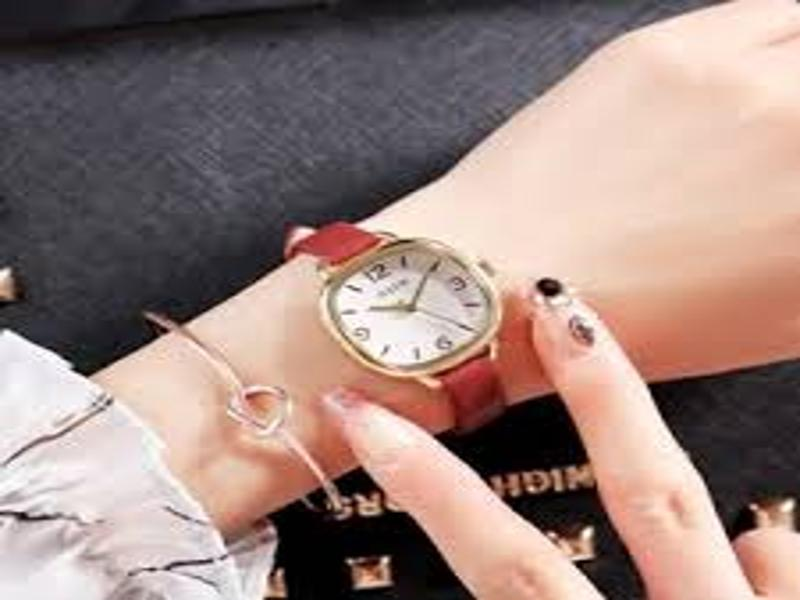watch: (284, 216, 510, 435)
